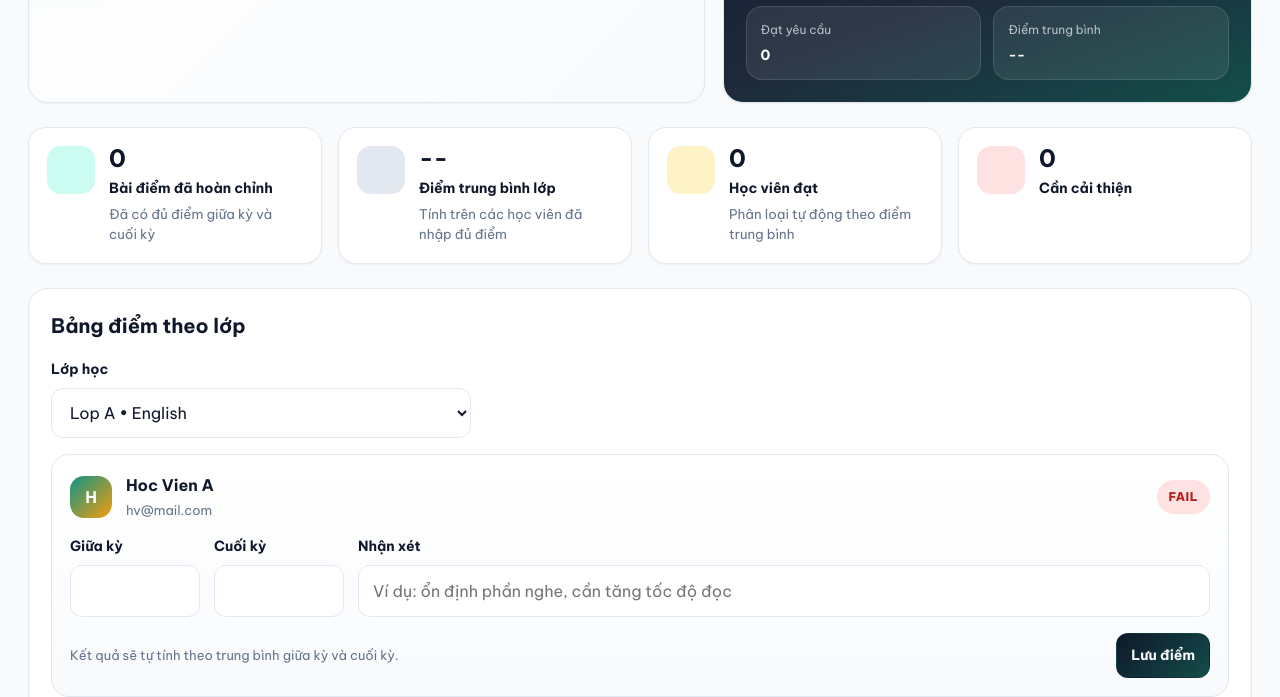
Test case: TeacherGradesPage › bao loi neu chua nhap diem
The image size is (1280, 697).
(page scrolled)
Expected: the text "Hoc Vien A" is shown, [126,473,214,497]
Click the button "Lưu điểm": (1163, 656) [1116,634,1210,678]
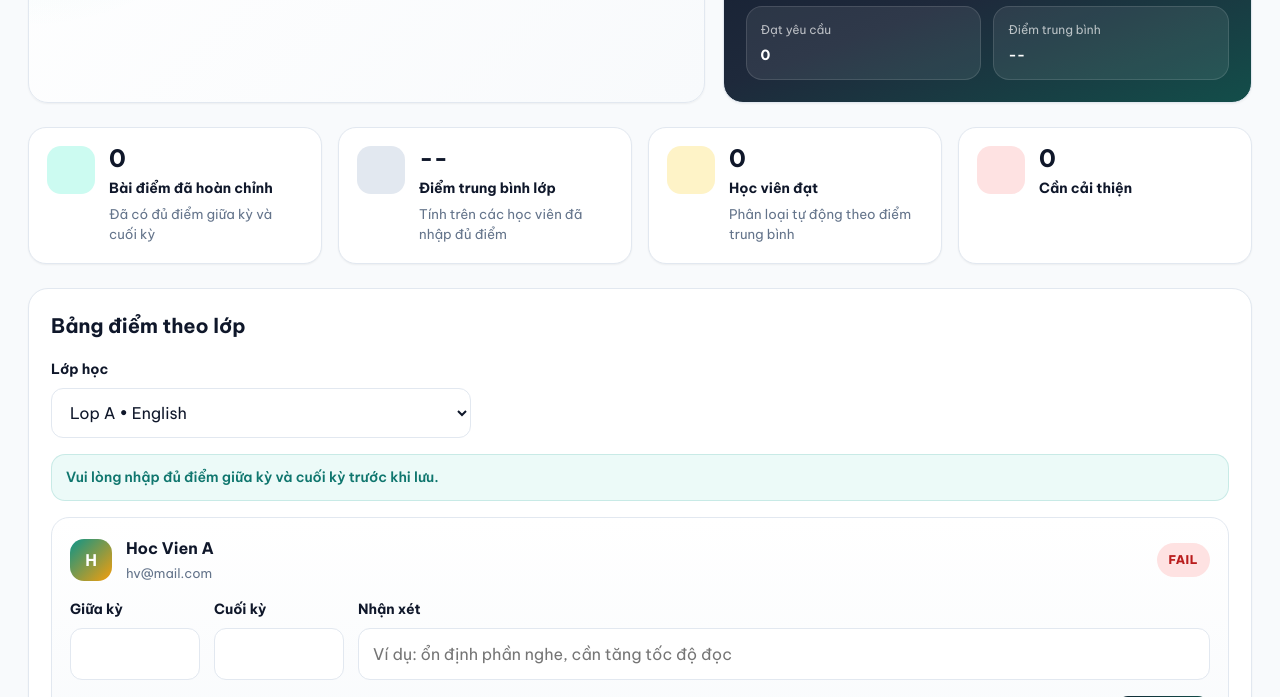
Expected: the text "Vui lòng nhập đủ điểm giữa kỳ và cuối kỳ trước khi lưu." is shown, [51,454,1229,501]
